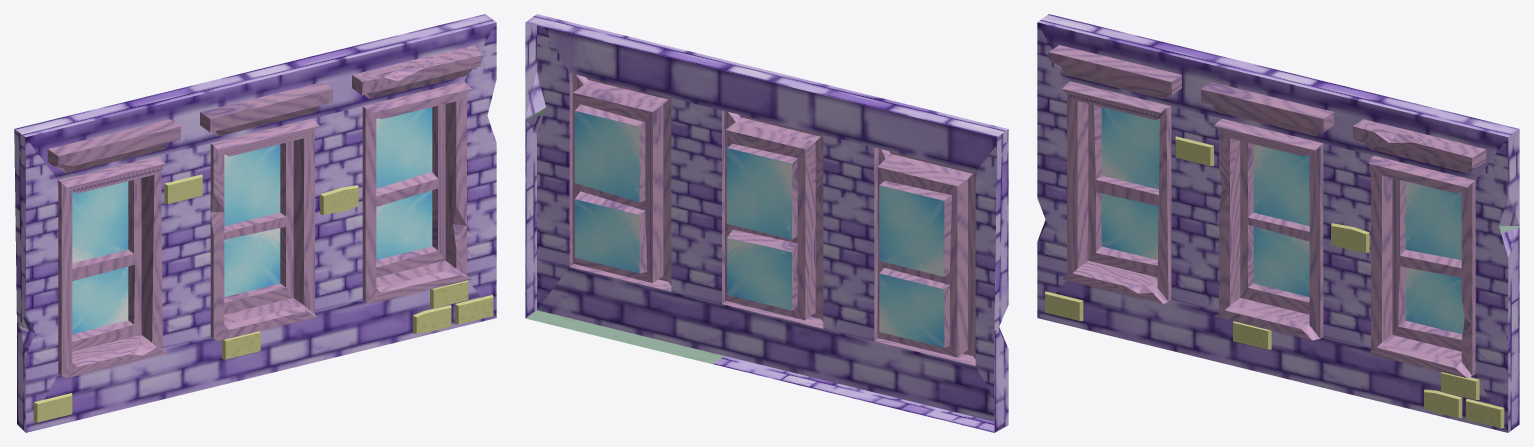
File: House_Front_Windows.fbx
3 views of the same model, side by side, from view 1: azimuth 30°, elevation 25°; view 2: azimuth 150°, elevation 25°; view 3: azimuth 330°, elevation 25° (orthographic).
Visible parts, largest first — view 1: House_05; view 2: House_05; view 3: House_05.
Part boxes in pixels (x1=…): House_05: x1=14, y1=14, x2=496, y2=432; House_05: x1=525, y1=14, x2=1008, y2=432; House_05: x1=1037, y1=14, x2=1519, y2=432.
Size of the model in its own units: 500 by 300 by 43.84.
